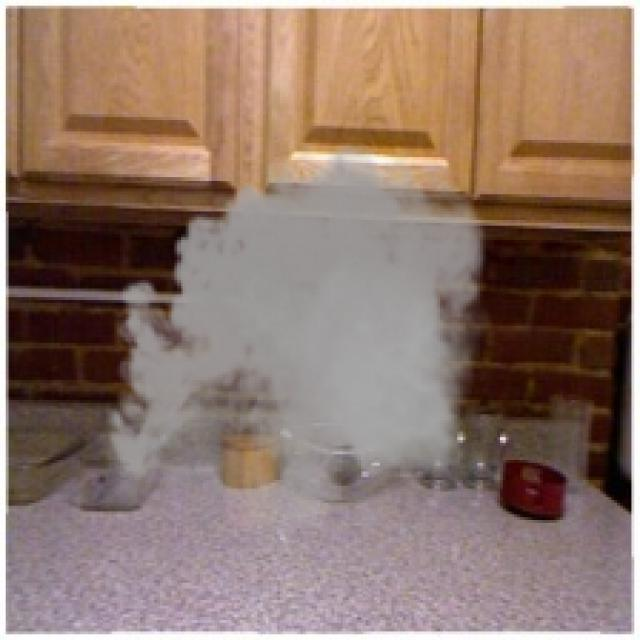Smoke: (94, 128, 500, 546)
